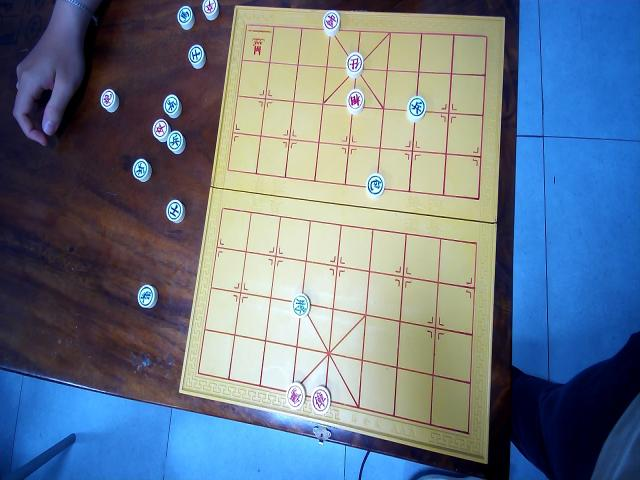piece: (310, 384, 330, 415), (406, 94, 427, 123), (365, 171, 385, 199), (286, 382, 306, 409), (137, 284, 157, 309), (165, 199, 185, 224), (345, 51, 364, 77), (346, 87, 364, 114), (322, 9, 340, 36), (167, 129, 186, 154), (132, 157, 151, 182), (187, 43, 205, 69), (176, 4, 194, 30), (291, 293, 310, 317), (100, 88, 118, 113), (152, 117, 170, 142), (163, 93, 181, 118), (201, 0, 219, 21)
